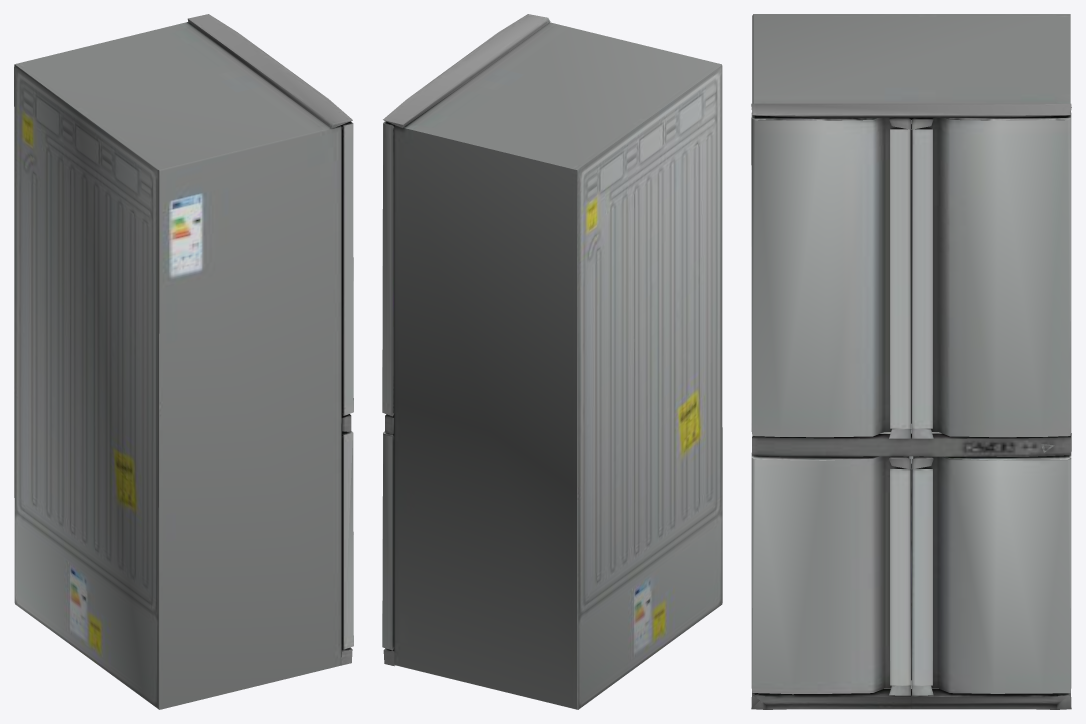
File: Refrigerator0001.obj
3 renders of one model, left to right at view 1: azimuth 30°, elevation 25°; view 2: azimuth 150°, elevation 25°; view 3: azimuth 270°, elevation 25°, orthographic. The views are drawn at different scales.
Size of the model in its own units: 0.8 by 2.1 by 1.02.
Materials: 1 (1 with a texture image).
